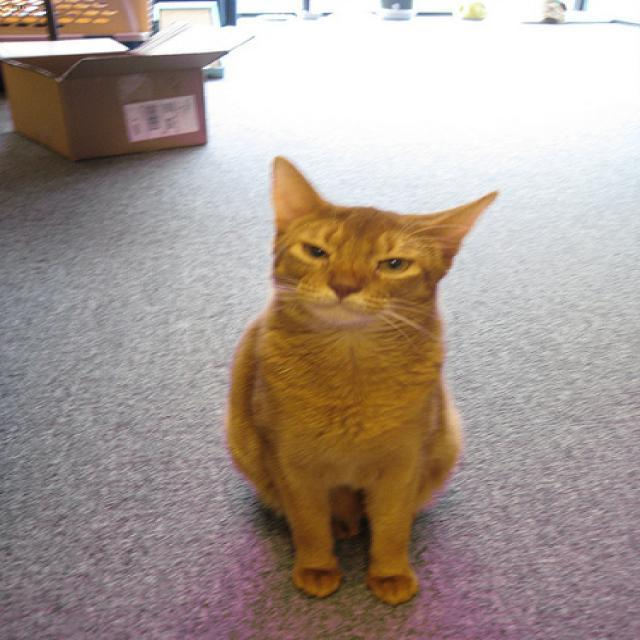Abyssinian: (263, 156, 483, 345)
